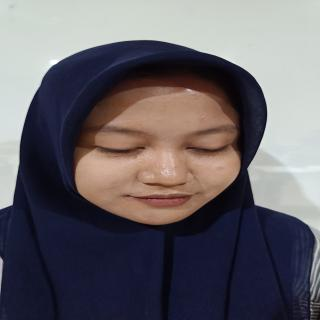Sedih: (54, 88, 252, 223)
